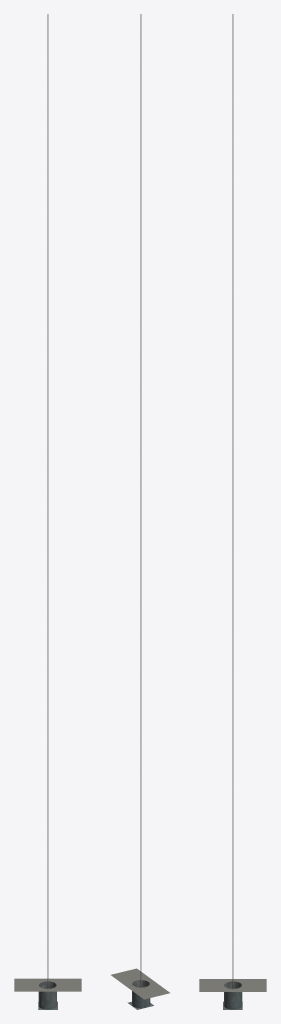
Rendered from elevator_base.FBX.
3 views of the same model, side by side, from view 1: azimuth 90°, elevation 25°; view 2: azimuth 210°, elevation 25°; view 3: azimuth 270°, elevation 25° (orthographic).
Visible parts, largest first — view 1: Cylinder04, Plane04, Tube01; view 2: Cylinder04, Plane04, Tube01; view 3: Cylinder04, Plane04, Tube01.
Boxes of the visible parts, x1,y1,x2,y2 form: Cylinder04: (47,14,48,988); Plane04: (14,978,81,991); Tube01: (38,981,56,1009); Cylinder04: (140,14,141,986); Plane04: (111,968,169,999); Tube01: (132,980,150,1008); Cylinder04: (232,14,233,988); Plane04: (199,979,266,991); Tube01: (224,981,242,1009).
Size of the model in its own units: 3306 by 118110 by 7288.
Materials: 2 (2 with a texture image).
